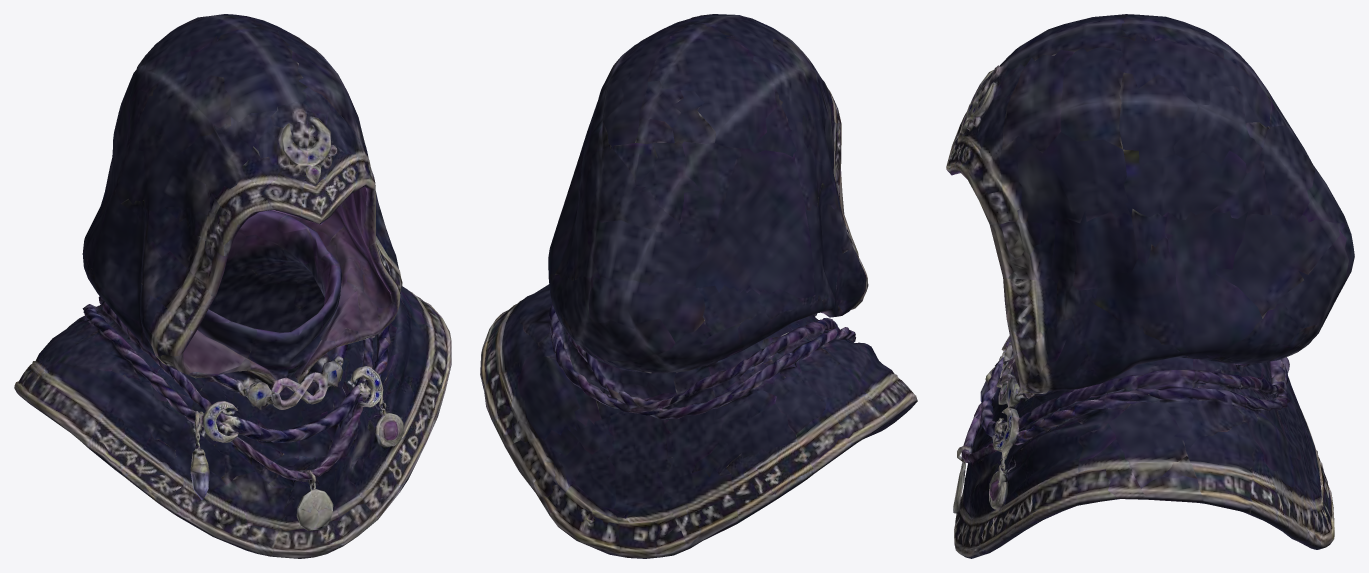
The model's file is helm-veil.glb.
3 views of the same model, side by side, from view 1: azimuth 30°, elevation 25°; view 2: azimuth 150°, elevation 25°; view 3: azimuth 270°, elevation 25° (orthographic). The views are drawn at different scales.
Bounding box in the file's own units: 1.68 × 1.9 × 1.35.
Materials: 1 (1 with a texture image).
